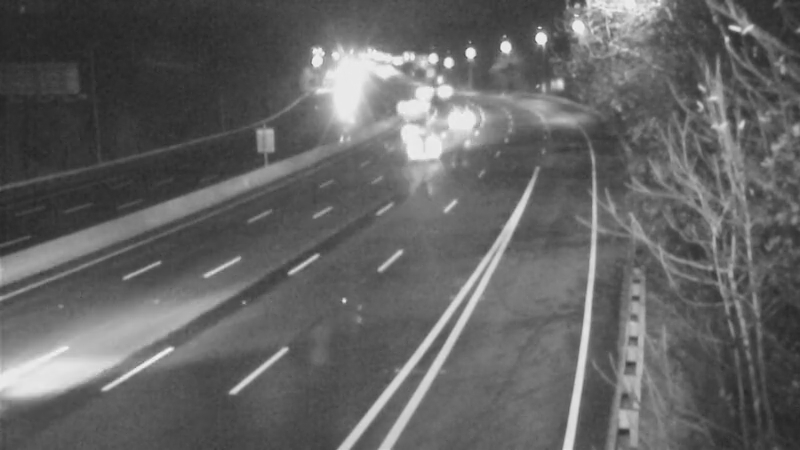vehicle: (419, 66, 469, 116), (399, 68, 449, 118), (445, 89, 495, 139), (380, 92, 430, 142), (397, 123, 447, 173)
